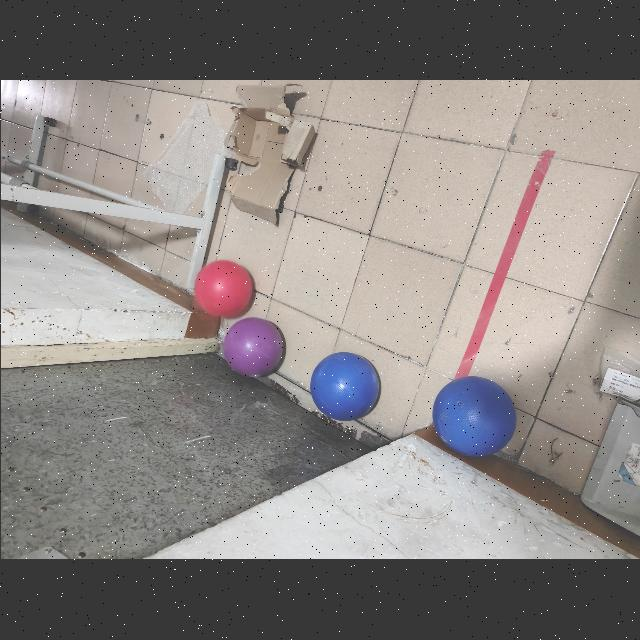B: (428, 374, 514, 461), (308, 352, 382, 424)
P: (216, 316, 284, 380)
R: (191, 258, 253, 318)
